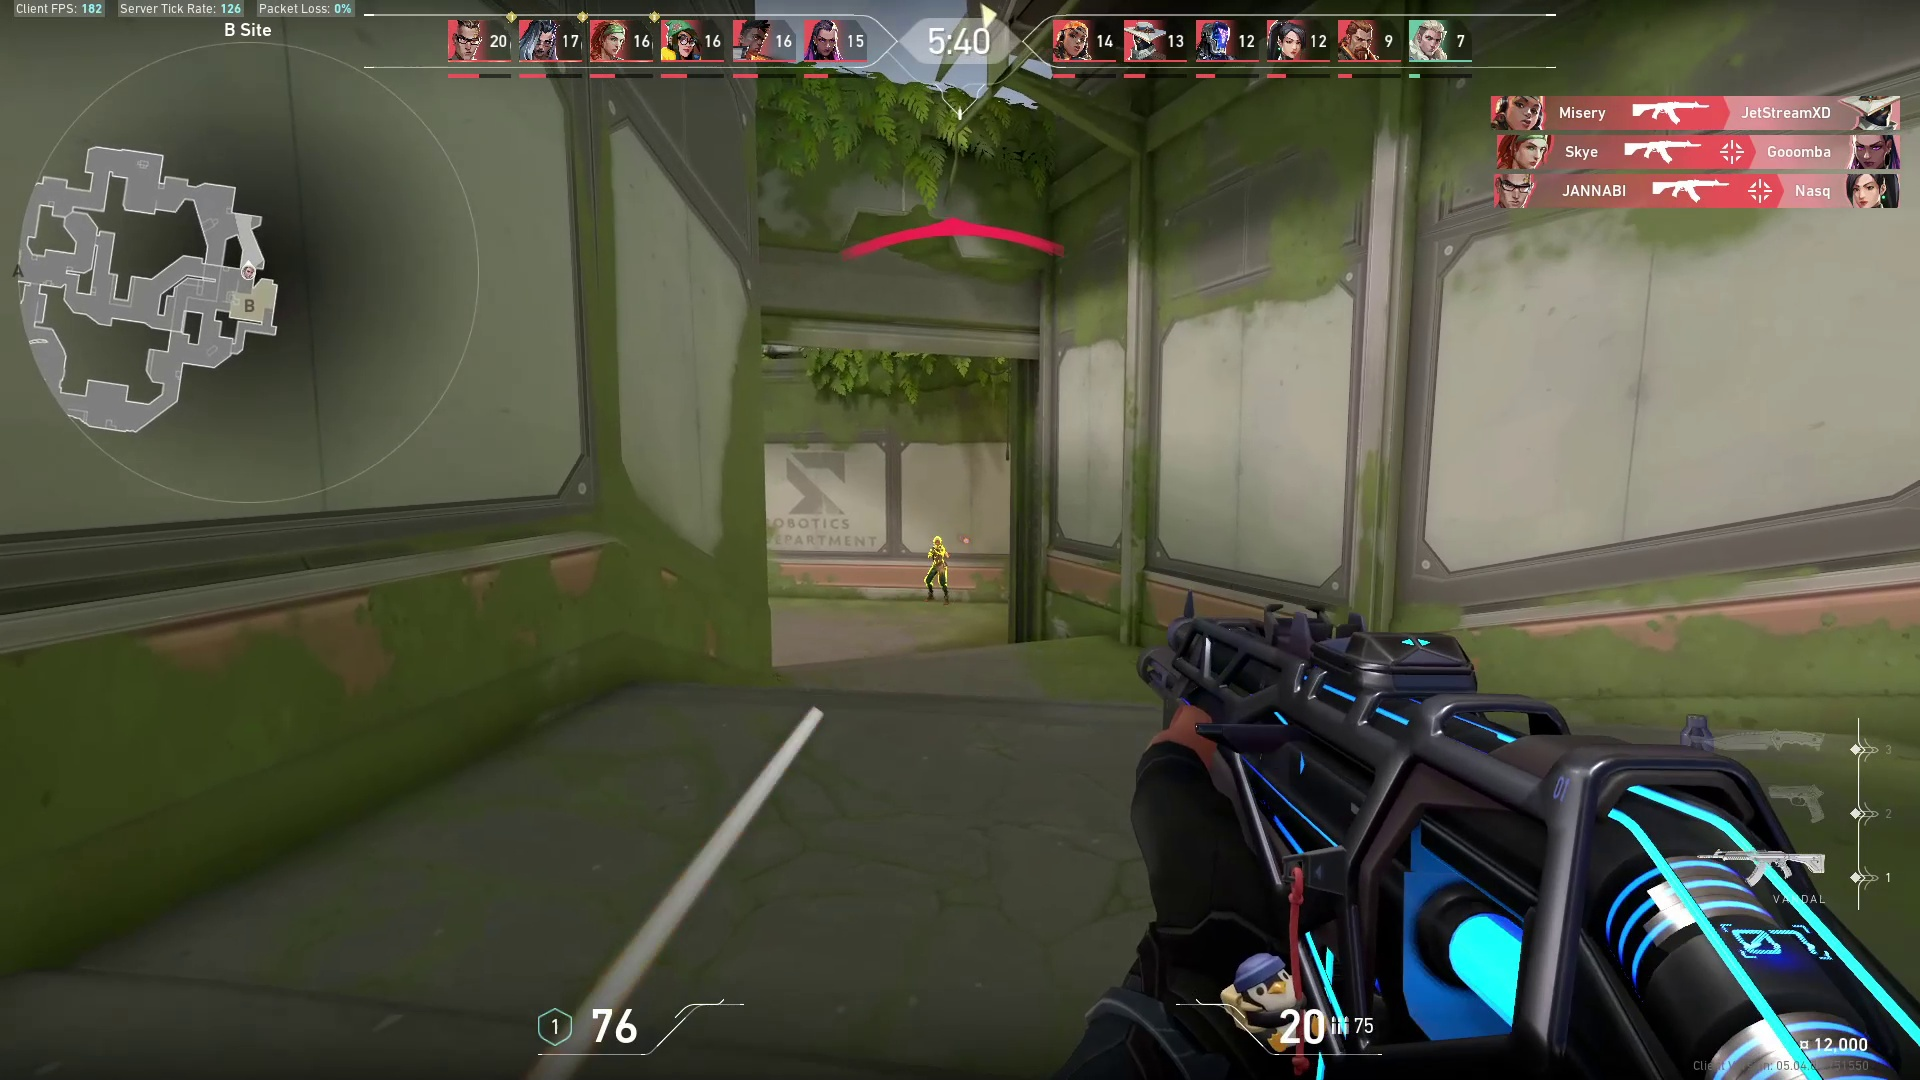enemy_head: (923, 547, 952, 607), (930, 534, 943, 547)
